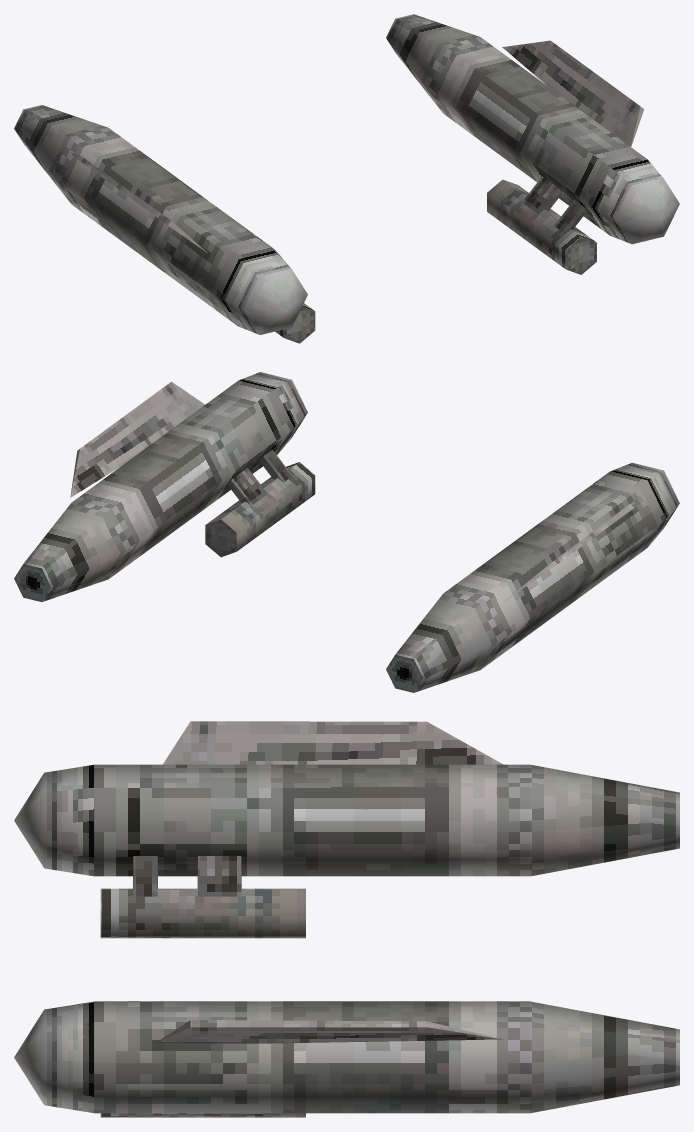
Rendered from ywing_engine_s02_l3.fbx.
3 views of the same model, one above another, from view 1: azimuth 30°, elevation 25°; view 2: azimuth 150°, elevation 25°; view 3: azimuth 270°, elevation 25° (orthographic). The views are drawn at different scales.
Visible parts, largest first — view 1: mesh_node; view 2: mesh_node; view 3: mesh_node.
Part boxes in pixels (x1,y1,x2,y2): mesh_node: (14, 14, 679, 343); mesh_node: (14, 372, 679, 692); mesh_node: (14, 721, 679, 1117).
Size of the model in its own units: 14.28 by 3.46 by 13.25.
Materials: 1 (1 with a texture image).
